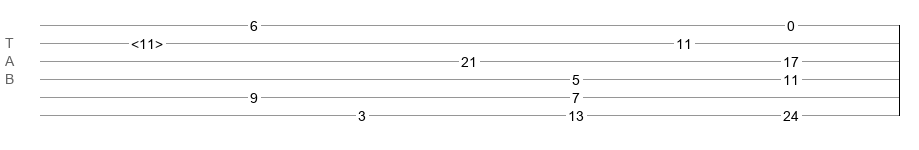0: (787, 18, 795, 28)
11: (676, 36, 692, 46), (783, 72, 799, 82)
13: (568, 108, 584, 118)
17: (783, 54, 799, 64)
21: (461, 54, 477, 64)
24: (783, 108, 799, 118)
3: (358, 108, 366, 118)
5: (572, 72, 580, 82)
6: (250, 18, 258, 28)
7: (572, 90, 580, 100)
9: (250, 90, 258, 100)
harmonic: (131, 36, 163, 46)
